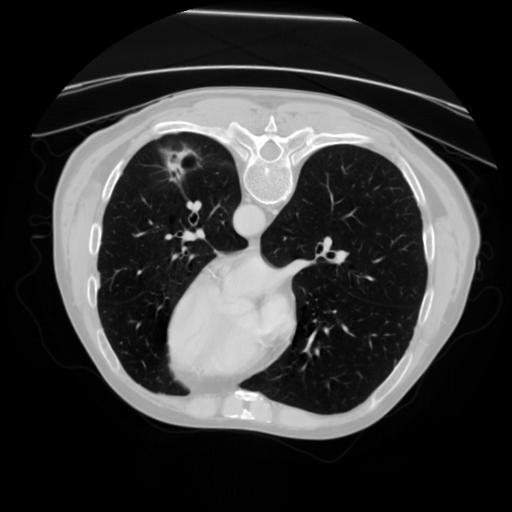nodule: (164, 147, 197, 180)
